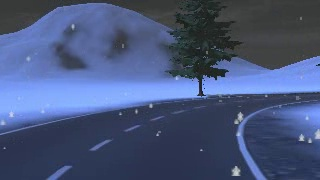Lane: (1, 92, 319, 179)
